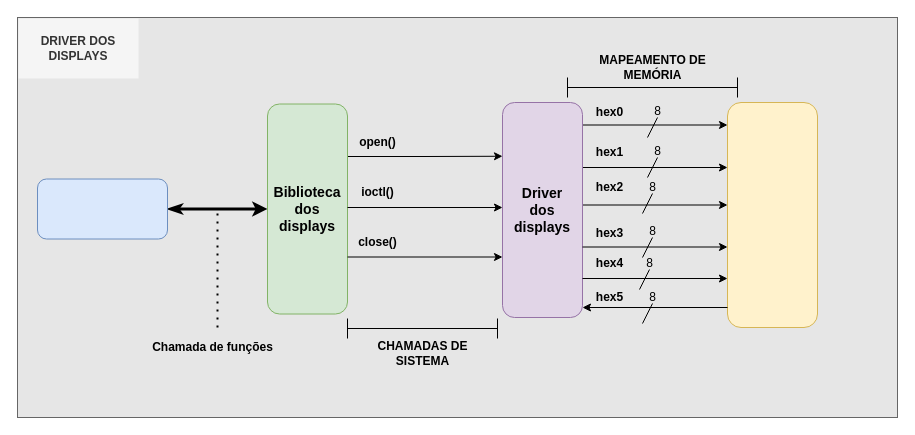
Some shapes in this 915 by 435 pixel diagram are drawn without their labels. Each missing label, with the centre of its shape:
Aplicação de usuário: the point at 102,208
Displays de 7 segmentos: the point at 772,215
